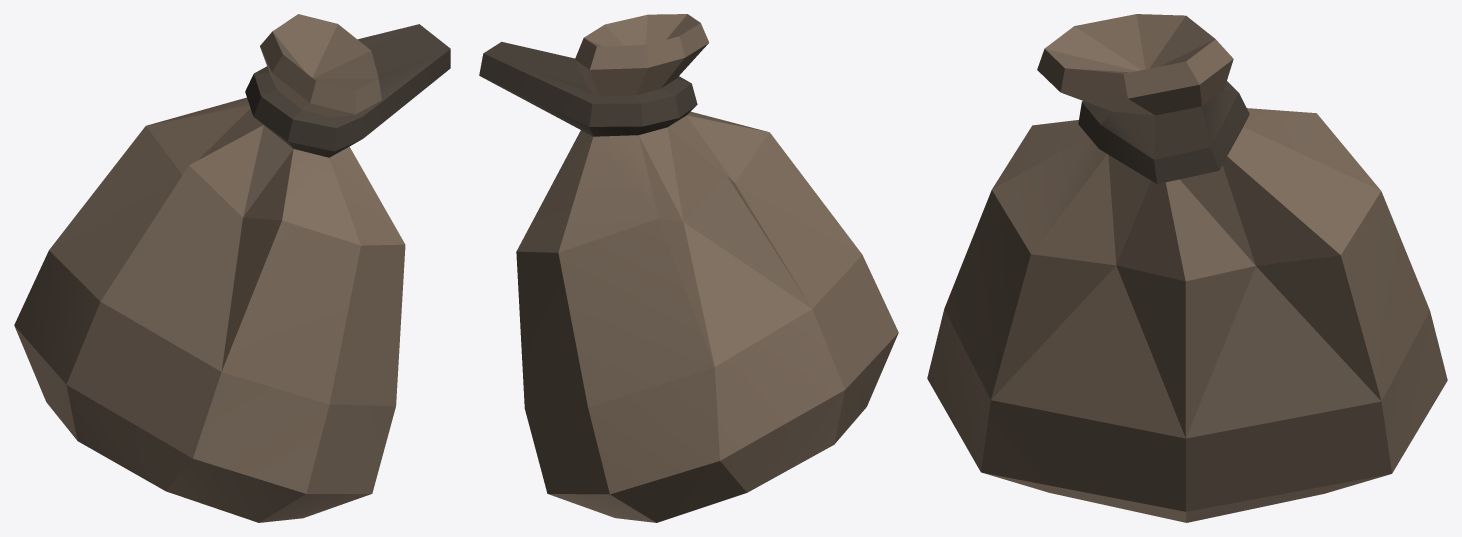
File: SM_Item_Bag_Large.fbx
The picture shows the model from 3 angles, left to right: view 1: azimuth 30°, elevation 25°; view 2: azimuth 150°, elevation 25°; view 3: azimuth 270°, elevation 25°; orthographic projection. The views are drawn at different scales.
Visible parts, largest first — view 1: SM_Item_Bag_Large; view 2: SM_Item_Bag_Large; view 3: SM_Item_Bag_Large.
Part boxes in pixels (left/top/right/bottom): SM_Item_Bag_Large: left=14, top=14, right=450, bottom=522; SM_Item_Bag_Large: left=479, top=14, right=898, bottom=522; SM_Item_Bag_Large: left=927, top=14, right=1447, bottom=522.
Bounding box in the file's own units: 14.68 × 16.98 × 15.78.
